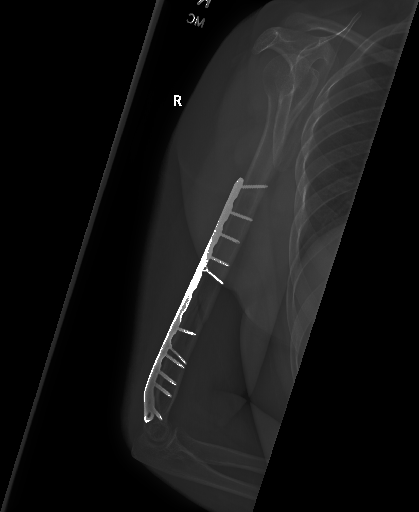implant: (201, 171, 270, 284), (139, 304, 199, 426)
